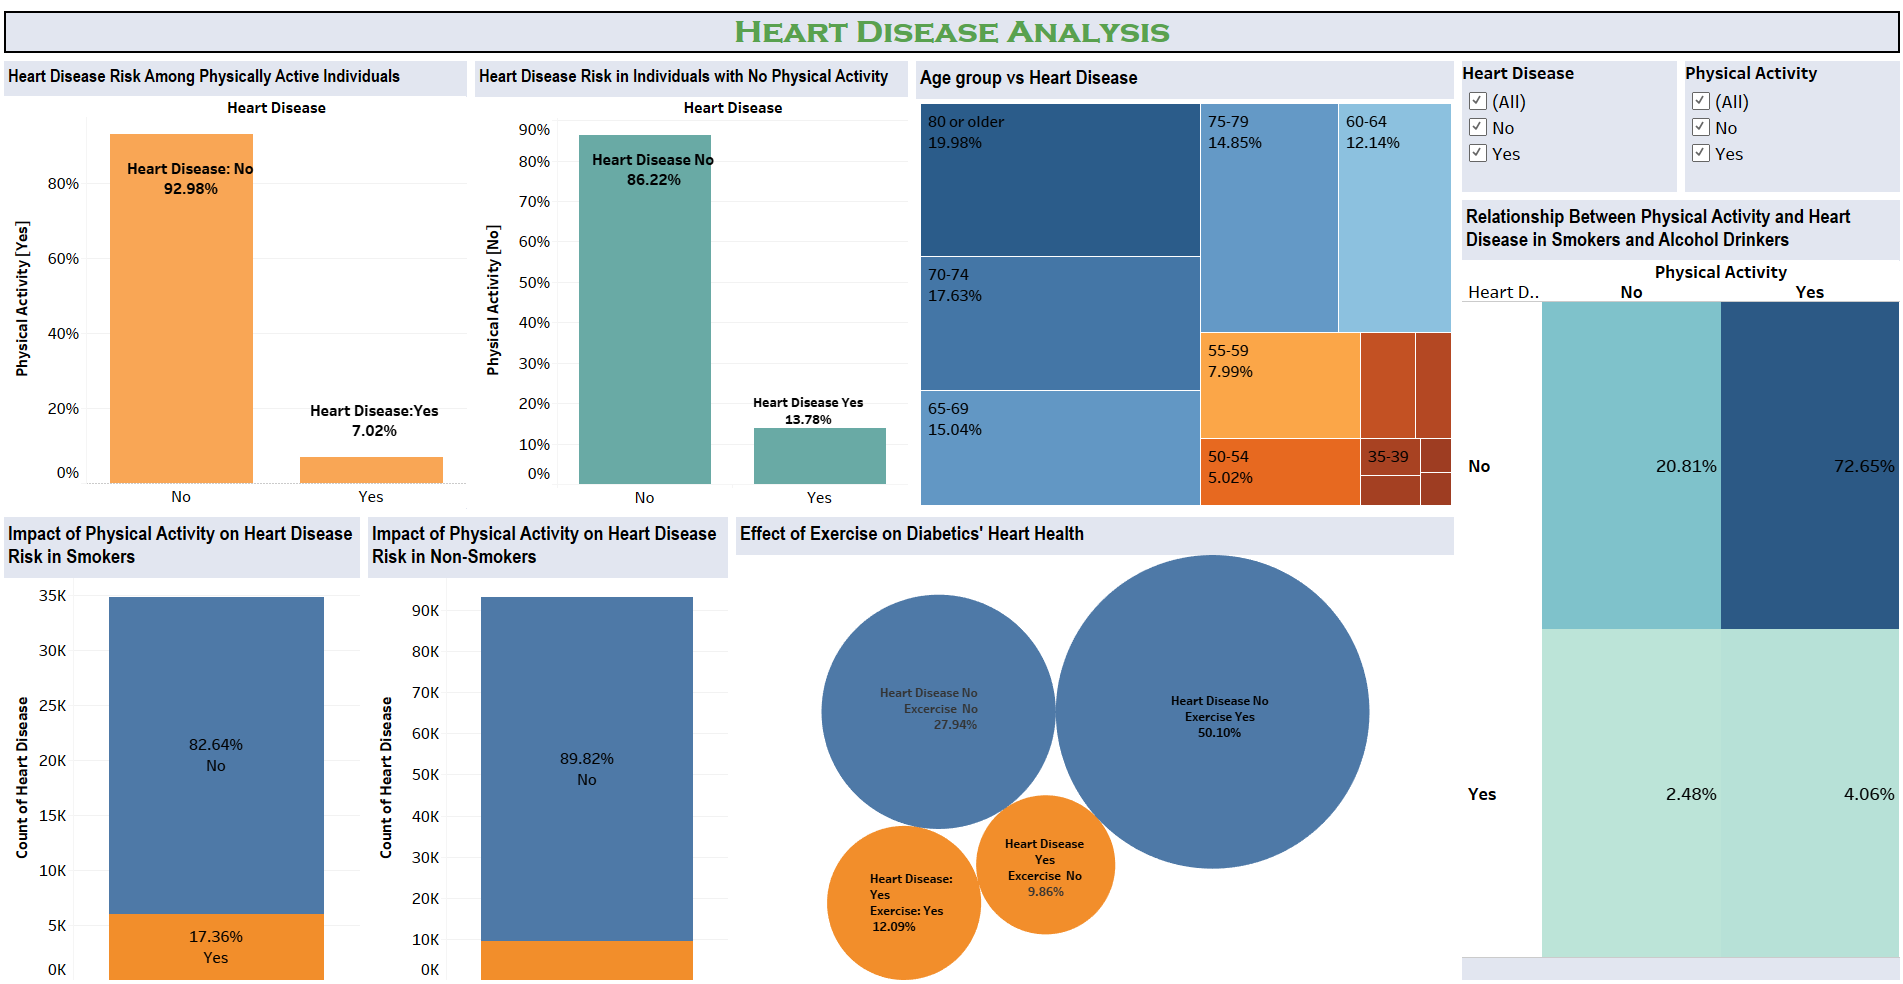

Layout of this report page (visuals, bound fields, positions):
{"tool":"tableau","page":{"name":"Dashboard 1","canvas":[1000,1000],"units":"permille","ordinal":0},"visuals":[{"type":"title","box":[4.8,10,990.3,62.4]},{"type":"worksheet","title":"Sheet 2","mark":"Automatic","rows":["PhysicalActivity"],"cols":["HeartDisease"],"box":[4.8,72.4,244.8,451.4]},{"type":"worksheet","title":"Sheet 3","mark":"Automatic","rows":["PhysicalActivity"],"cols":["HeartDisease"],"box":[249.6,72.4,229.4,451.4]},{"type":"worksheet","title":"Sheet 5","mark":"Automatic","box":[479,72.4,284.3,451.4]},{"type":"filter","title":"Sheet 8","param":"[federated.13mau5b1pwcqv014d5osi1nga3fx].[none:HeartDisease:nk]","box":[763.3,72.4,115.8,137.3]},{"type":"filter","title":"Sheet 8","param":"[federated.13mau5b1pwcqv014d5osi1nga3fx].[none:PhysicalActivity:nk]","box":[879,72.4,116.1,137.3]},{"type":"worksheet","title":"Sheet 8","mark":"Square","rows":["HeartDisease"],"cols":["PhysicalActivity"],"box":[763.3,209.7,231.9,780.3]},{"type":"worksheet","title":"Sheet 7","mark":"Automatic","rows":["HeartDisease"],"cols":["Smoking"],"box":[4.8,523.8,189.3,466.2]},{"type":"worksheet","title":"Sheet 7 (2)","mark":"Automatic","rows":["HeartDisease"],"cols":["Smoking"],"box":[194.2,523.8,191.2,466.2]},{"type":"worksheet","title":"Sheet 1","mark":"Circle","box":[385.4,523.8,377.9,466.2]}]}

Visuals, with their boxes on the dashboard's canvas, which has no fixed pixel size, in thousandths of its width and height (x1, y1, x2, y2). These are canvas units, not pixel positions in the 1903x984 screenshot, which may show the page scaled, cropped or inside an application window:
title: BBox(5, 10, 995, 72)
"Sheet 2" worksheet: BBox(5, 72, 250, 524)
"Sheet 3" worksheet: BBox(250, 72, 479, 524)
"Sheet 5" worksheet: BBox(479, 72, 763, 524)
"Sheet 8" filter: BBox(763, 72, 879, 210)
"Sheet 8" filter: BBox(879, 72, 995, 210)
"Sheet 8" worksheet (Square marks): BBox(763, 210, 995, 990)
"Sheet 7" worksheet: BBox(5, 524, 194, 990)
"Sheet 7 (2)" worksheet: BBox(194, 524, 385, 990)
"Sheet 1" worksheet (Circle marks): BBox(385, 524, 763, 990)
